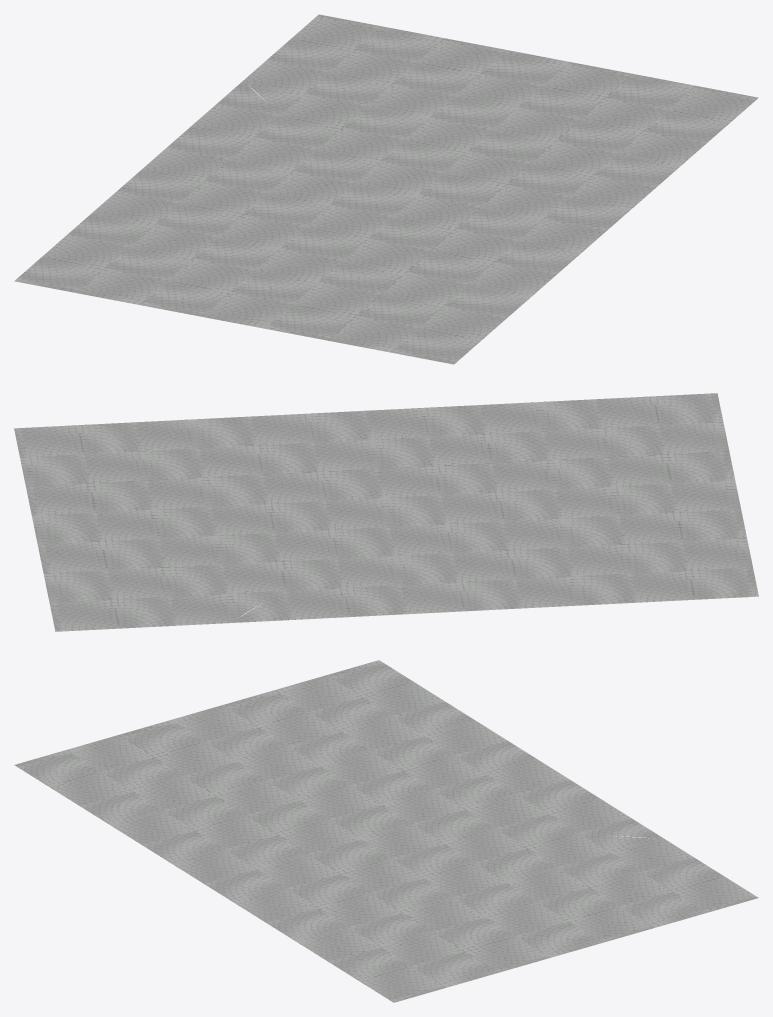
The model's file is finish.glb.
3 views of the same model, one above another, from view 1: azimuth 30°, elevation 25°; view 2: azimuth 150°, elevation 25°; view 3: azimuth 270°, elevation 25° (orthographic). The views are drawn at different scales.
Parts seen in each view (by area): view 1: fit_local_fan_paving; view 2: fit_local_fan_paving; view 3: fit_local_fan_paving.
Part boxes in pixels (x1,y1,x2,y2): fit_local_fan_paving: (14, 14, 758, 364); fit_local_fan_paving: (14, 393, 758, 631); fit_local_fan_paving: (14, 660, 758, 1002).
Bounding box in the file's own units: 12.53 × 0.2044 × 11.7.
Materials: 1 (1 with a texture image).
